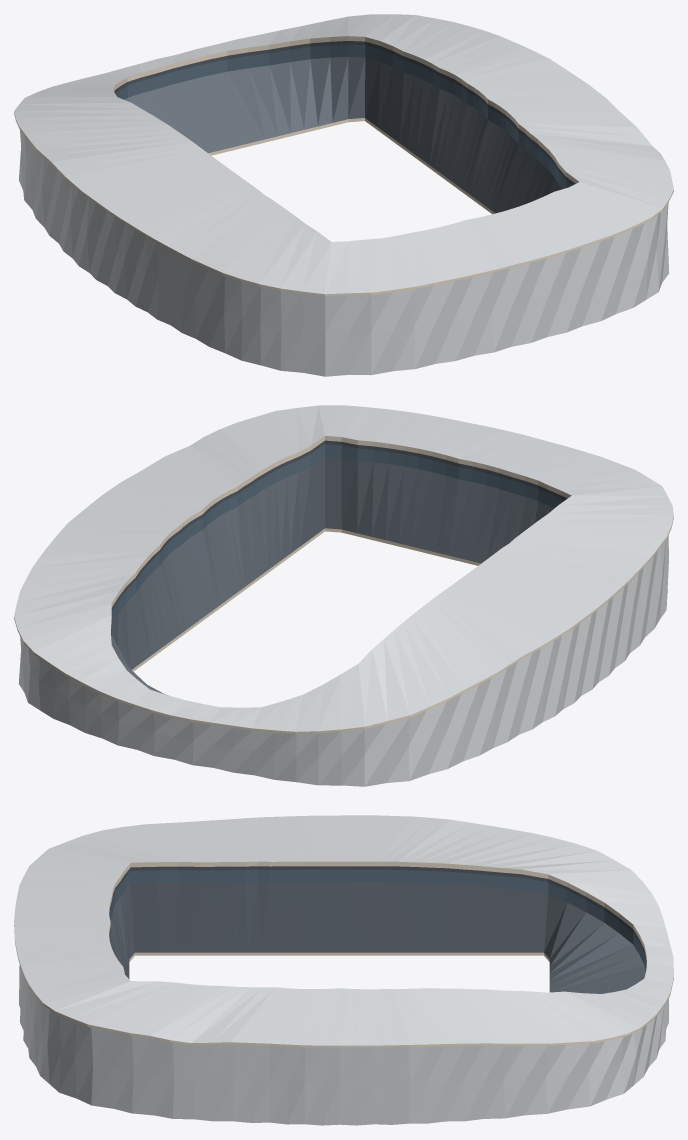
Rendered from msp-allianz-field.glb.
3 views of the same model, one above another, from view 1: azimuth 30°, elevation 25°; view 2: azimuth 150°, elevation 25°; view 3: azimuth 270°, elevation 25° (orthographic). The views are drawn at different scales.
Parts seen in each view (by area): view 1: Allianz Field; view 2: Allianz Field; view 3: Allianz Field.
Boxes of the visible parts, x1,y1,x2,y2 form: Allianz Field: (14, 14, 673, 376); Allianz Field: (14, 405, 673, 786); Allianz Field: (14, 815, 673, 1125).
Size of the model in its own units: 161 by 29.8 by 193.
